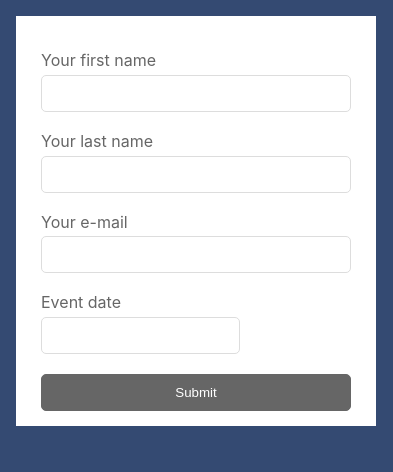
Test case: Event form end 2 end tests › Last name skipped - proper message displayed
The width and height of the screenshot is (393, 472).
Focus the field with id "lastName" at (196,175), box [41,156,351,193]
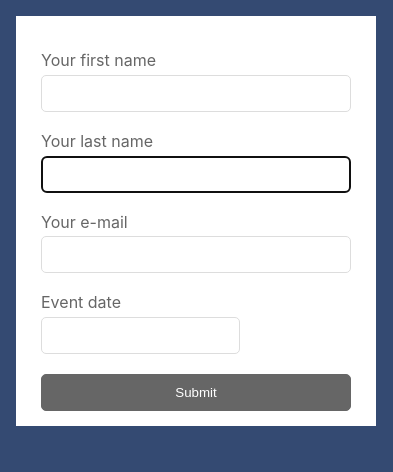
Focus the field with id "email" at (196,255), box [41,236,351,273]
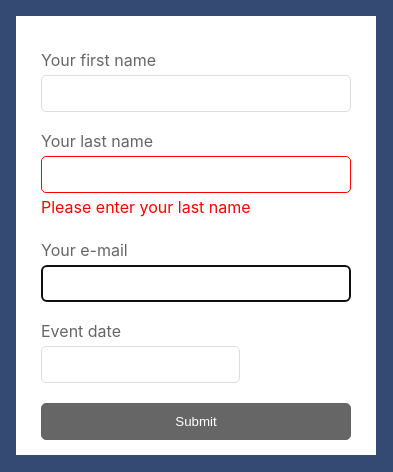
Result: the text "Please enter your last name" is shown at [41,197,251,217]
